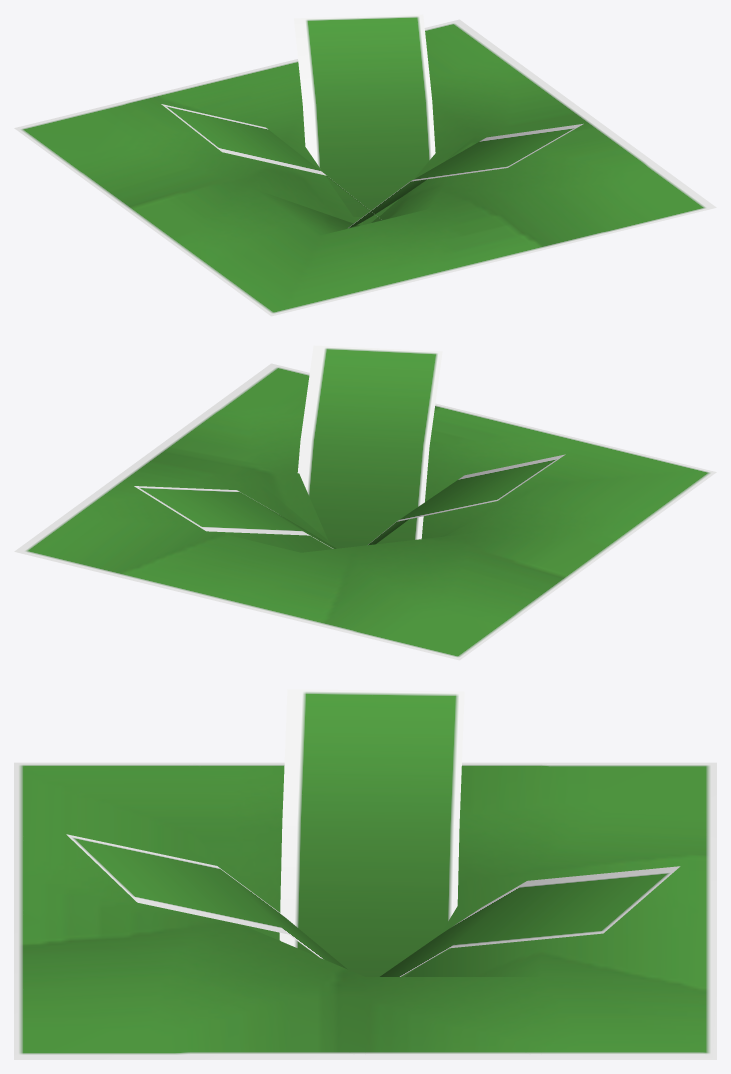
The model's file is Plant_07.glb.
3 views of the same model, one above another, from view 1: azimuth 30°, elevation 25°; view 2: azimuth 150°, elevation 25°; view 3: azimuth 270°, elevation 25° (orthographic). The views are drawn at different scales.
Visible parts, largest first — view 1: Plant_07_LOD0; view 2: Plant_07_LOD0; view 3: Plant_07_LOD0.
Boxes of the visible parts, x1,y1,x2,y2 form: Plant_07_LOD0: (14,14,716,316); Plant_07_LOD0: (14,345,716,660); Plant_07_LOD0: (14,689,716,1059).
Size of what is drawn, in the model's own units: 0.1822 by 0.0541 by 0.1822.
Materials: 1 (1 with a texture image).
